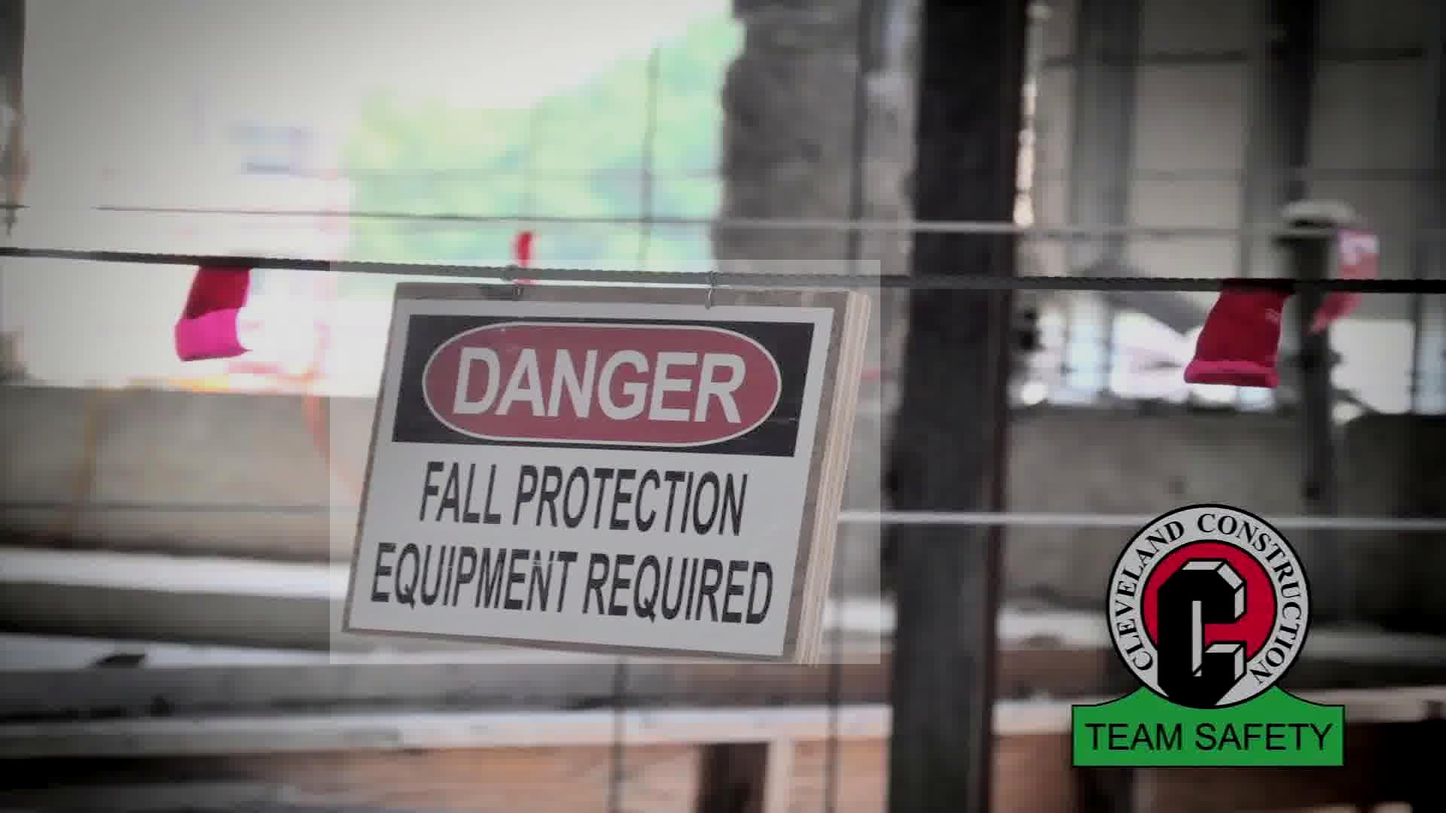safety_signage: (330, 260, 880, 664)
